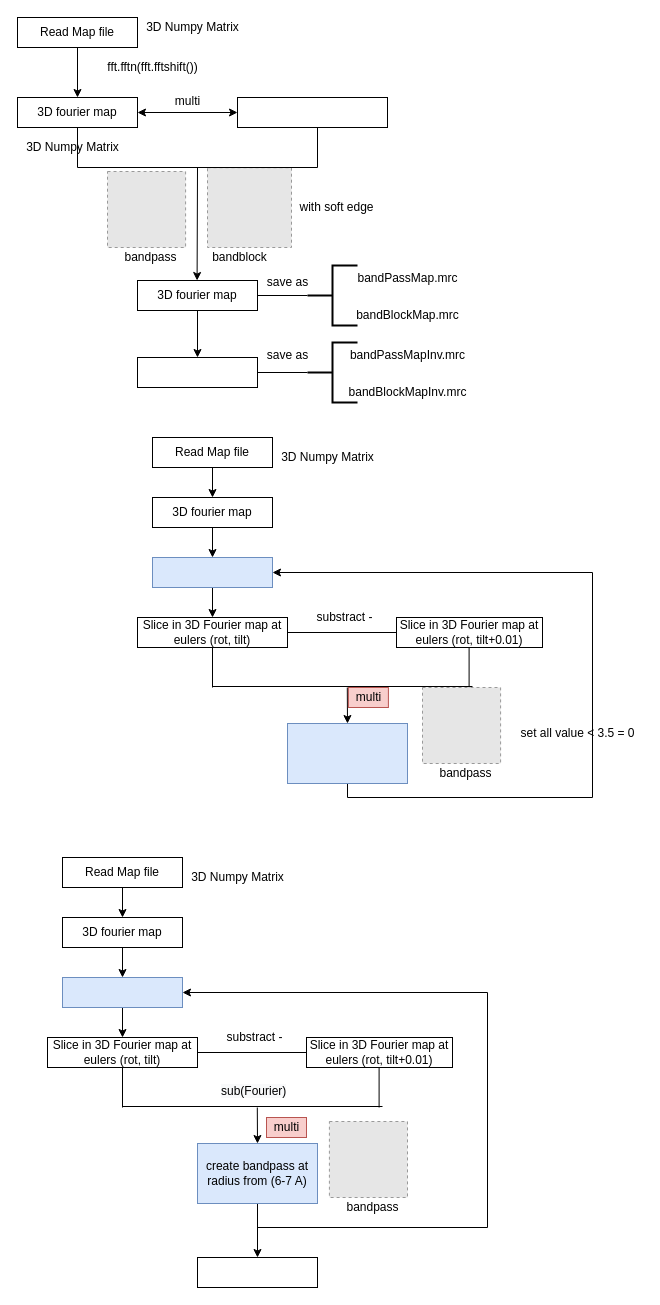
Some shapes in this 660 by 1305 pixel diagram are drawn without their labels. Grey dashed boxes stand in for pictures. The shapes that lost their labels are listed below. From the top down, each one's centre as x and y in pixels, then its label:
At point (312, 112): "Create 3D bandblock filter".
At point (197, 372): "1 - 3D fourier map".
At point (212, 572): "read eulers in Healpy sample list".
At point (347, 753): "create bandpass at radius from (3 A) to (40 A)".
At point (122, 992): "read eulers in starfile job070 list".
At point (257, 1272): "Outmap[rot, tilt] = sum( sub(Fourier)>0)".
